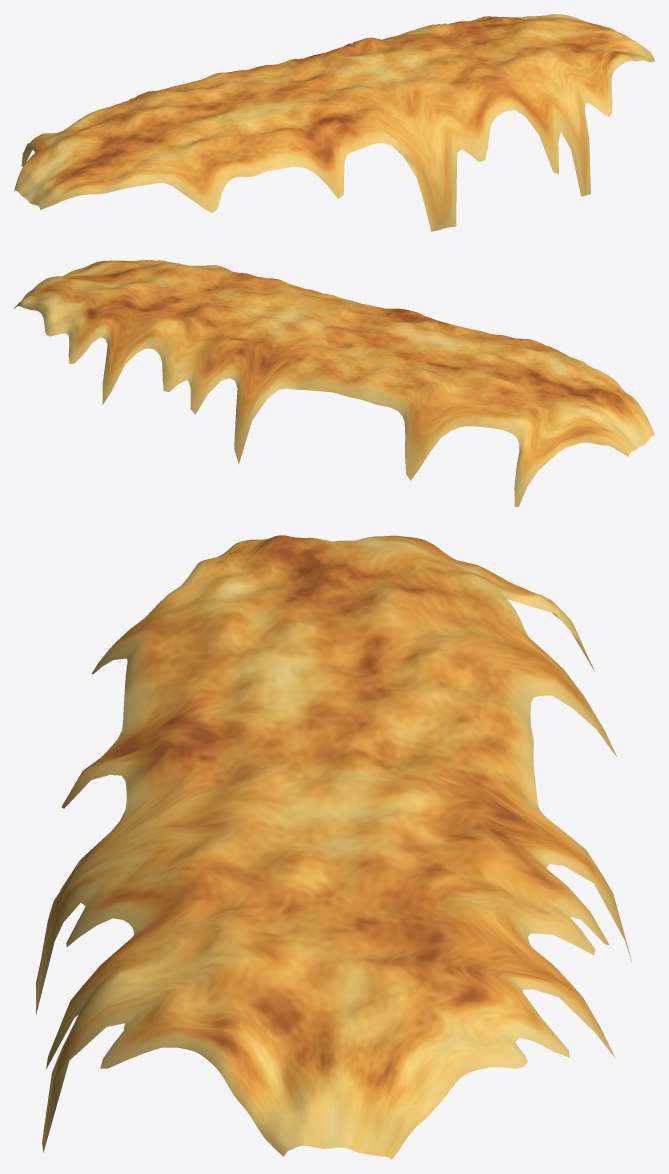
Rendered from gratinado.glb.
3 renders of one model, top to bottom at view 1: azimuth 30°, elevation 25°; view 2: azimuth 150°, elevation 25°; view 3: azimuth 270°, elevation 25°, orthographic. The views are drawn at different scales.
Parts seen in each view (by area): view 1: gratinado_queijo; view 2: gratinado_queijo; view 3: gratinado_queijo.
Part boxes in pixels (x1,y1,x2,y2): gratinado_queijo: [14, 14, 654, 231]; gratinado_queijo: [14, 260, 654, 506]; gratinado_queijo: [36, 535, 631, 1159].
Bounding box in the file's own units: 0.246 × 0.0409 × 0.1036.
Materials: 1 (1 with a texture image).
